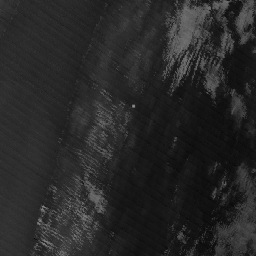Target: (130, 103, 137, 109)
